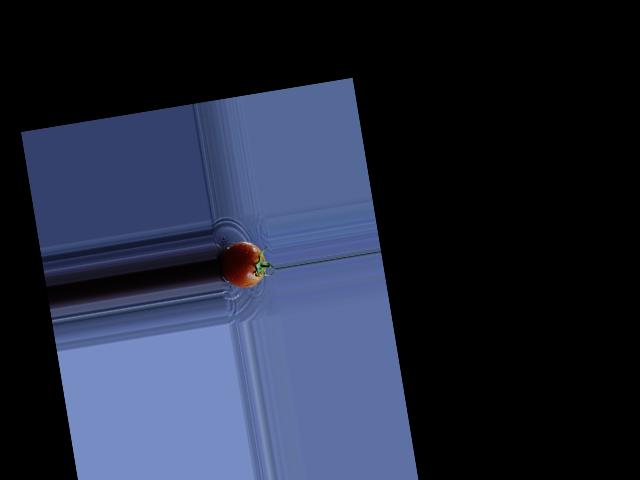tomato: (217, 238, 268, 290)
